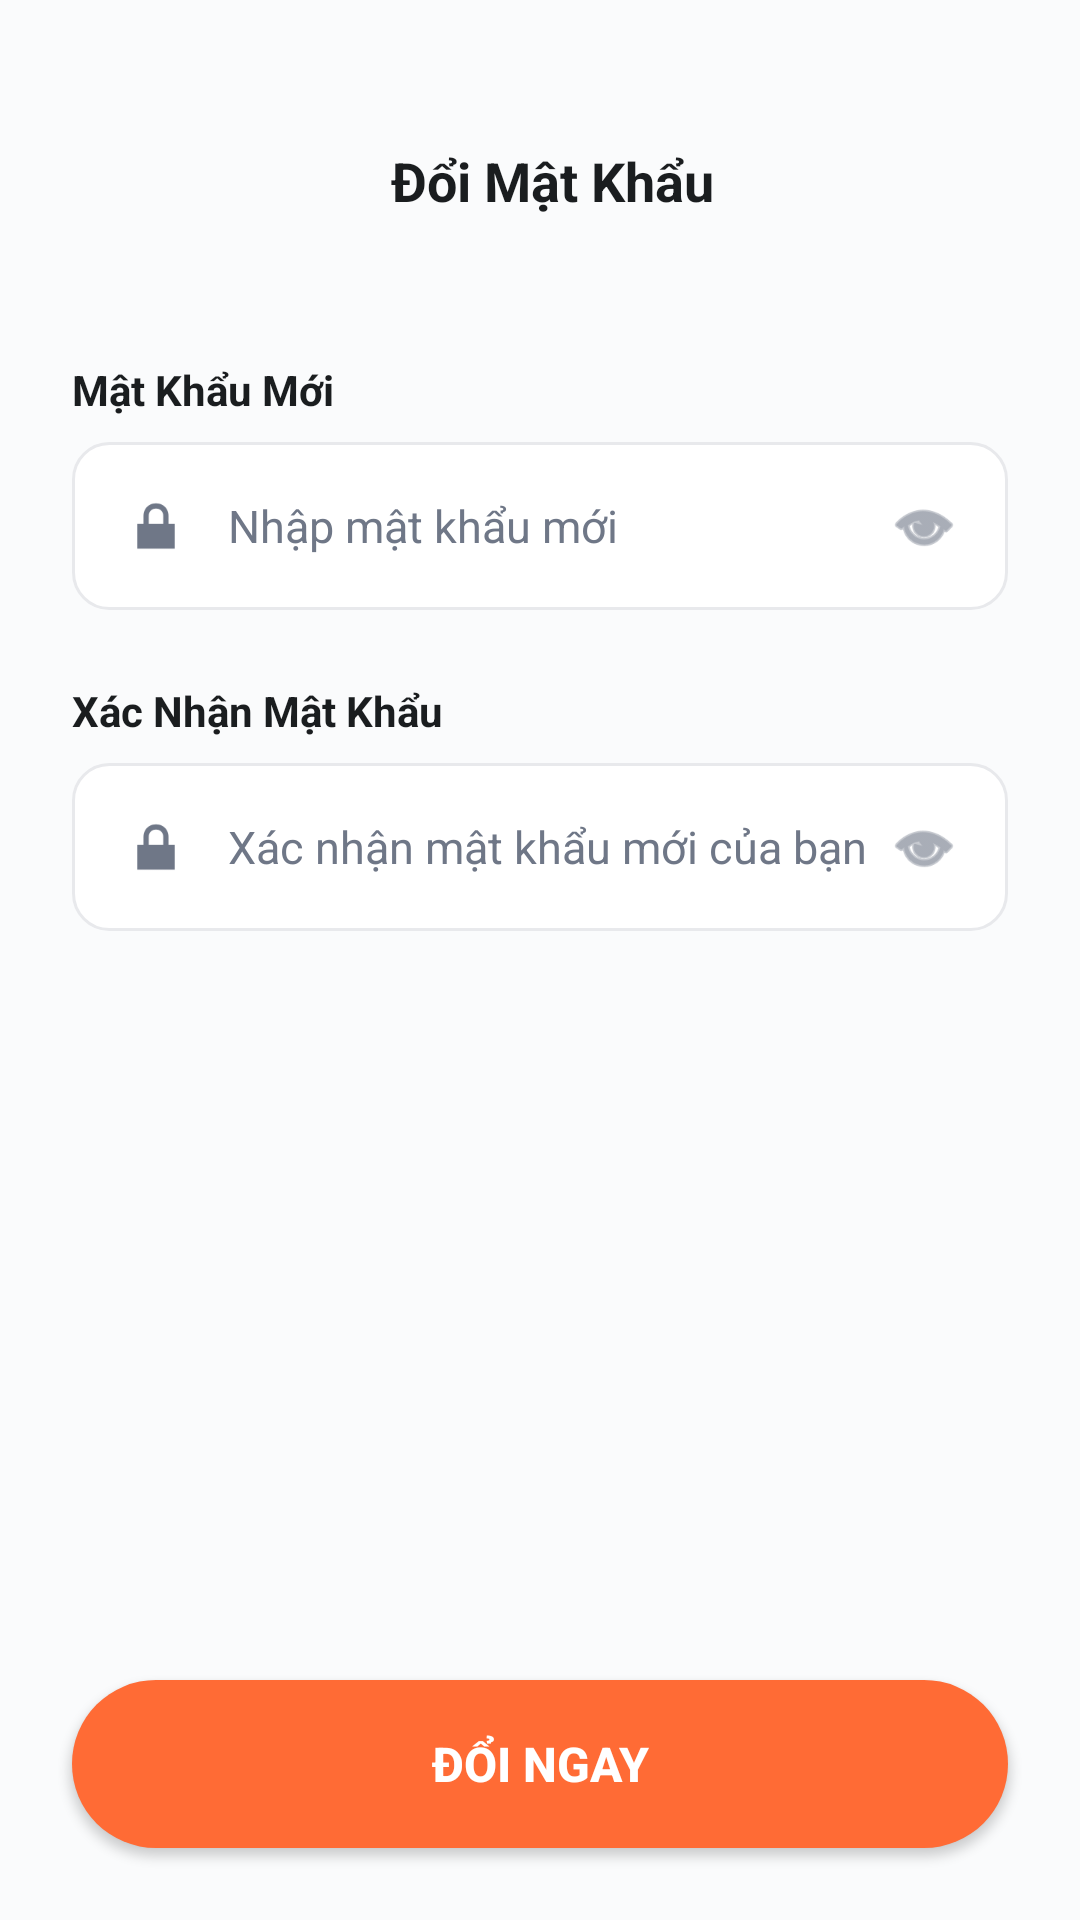

Screen size 1080px x 1920px. Icon name, then its box in pixels as detection(x1, y1, x2, y2):
lock: detection(137, 503, 175, 549), detection(137, 824, 175, 870)
Show password: detection(895, 510, 953, 546), detection(895, 831, 953, 867)
